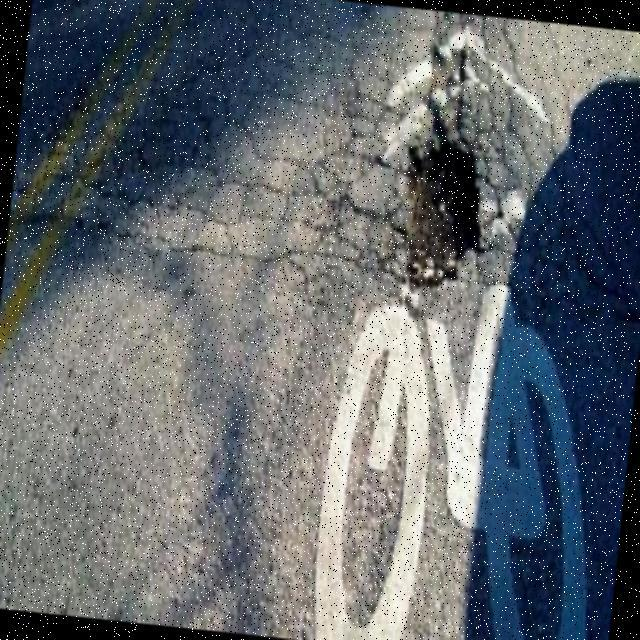Pothole: (408, 146, 480, 287)
